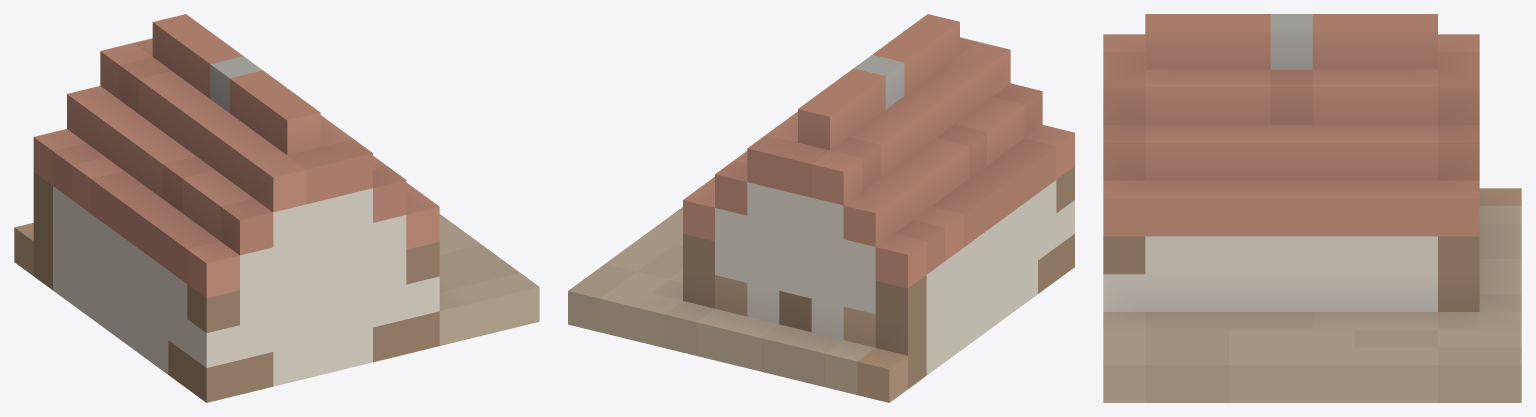
Rendered from apiary.lite.glb.
The picture shows the model from 3 angles, left to right: view 1: azimuth 30°, elevation 25°; view 2: azimuth 150°, elevation 25°; view 3: azimuth 270°, elevation 25°; orthographic projection. The views are drawn at different scales.
Parts seen in each view (by area): view 1: apiary; view 2: apiary; view 3: apiary.
Part boxes in pixels (<box>): apiary: <box>14,14,539,402</box>; apiary: <box>568,14,1074,402</box>; apiary: <box>1103,14,1521,402</box>.
Bounding box in the file's own units: 5 × 3.5 × 5.
